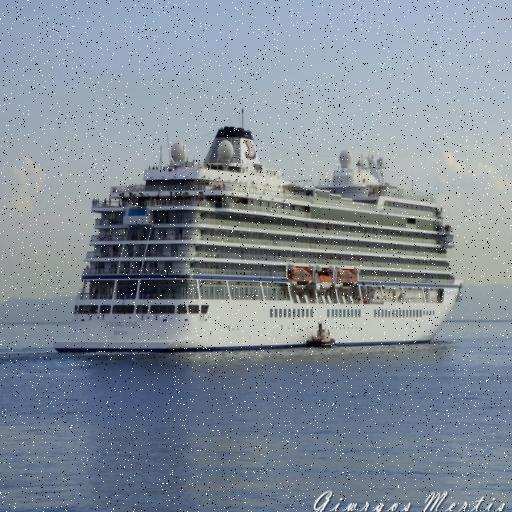cruises: (51, 123, 470, 364)
